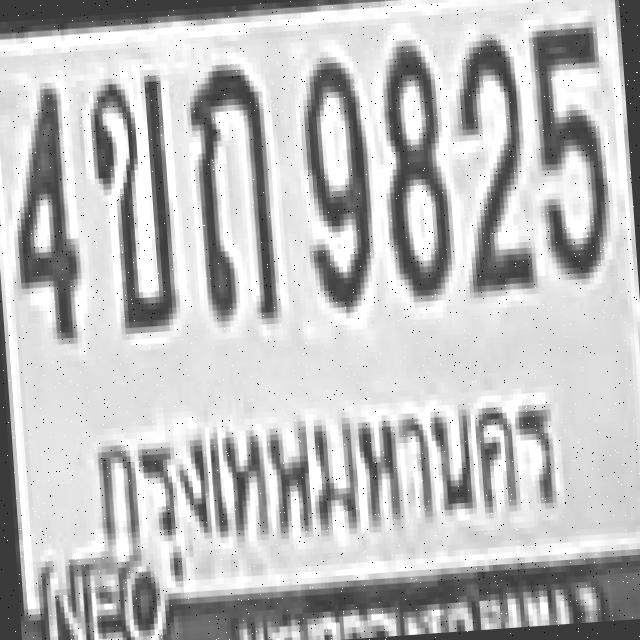11KhorKhai: (83, 66, 177, 327)
2: (449, 29, 531, 289)
4: (3, 78, 81, 338)
5: (527, 22, 609, 276)
8: (375, 38, 449, 297)
9: (293, 52, 375, 306)
Bangkok: (70, 378, 571, 579)
